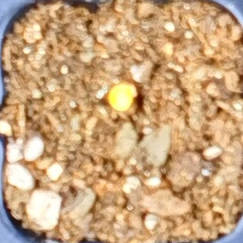pepper seed: (39, 26, 174, 139)
